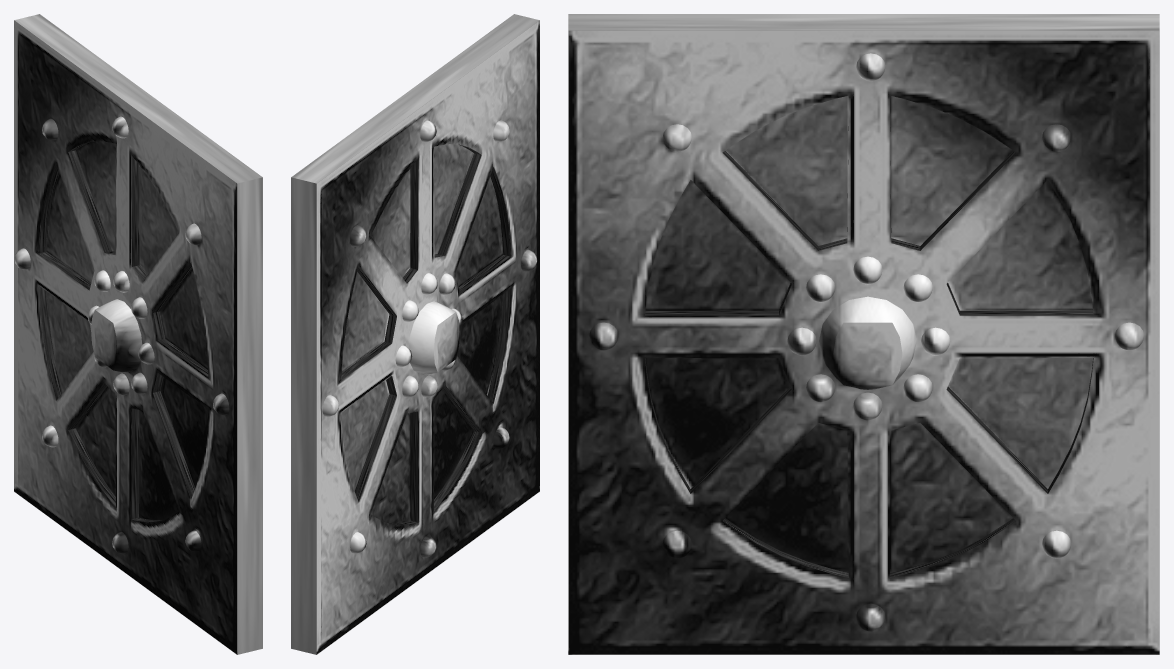
Rendered from door8.FBX.
3 views of the same model, side by side, from view 1: azimuth 30°, elevation 25°; view 2: azimuth 150°, elevation 25°; view 3: azimuth 270°, elevation 25° (orthographic). The views are drawn at different scales.
Visible parts, largest first — view 1: door8; view 2: door8; view 3: door8.
Boxes of the visible parts, x1,y1,x2,y2 form: door8: (14, 14, 262, 654); door8: (291, 14, 539, 654); door8: (568, 14, 1159, 654).
Size of the model in its own units: 51.42 by 302 by 352.
